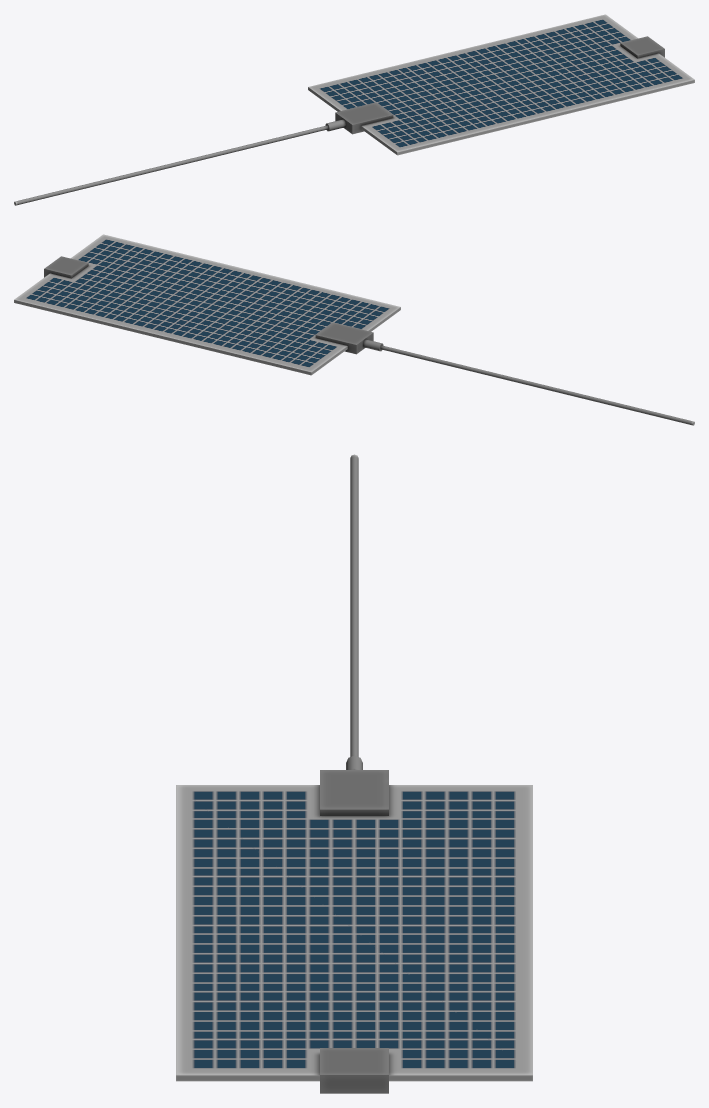
Rendered from Tantares_SolarBasic_A_4.obj.
3 renders of one model, top to bottom at view 1: azimuth 30°, elevation 25°; view 2: azimuth 150°, elevation 25°; view 3: azimuth 270°, elevation 25°, orthographic. The views are drawn at different scales.
Parts seen in each view (by area): view 1: Tantares_SolarBasic_A_4; view 2: Tantares_SolarBasic_A_4; view 3: Tantares_SolarBasic_A_4.
Part boxes in pixels (x1,y1,x2,y2): Tantares_SolarBasic_A_4: (14,14,694,205); Tantares_SolarBasic_A_4: (14,234,694,425); Tantares_SolarBasic_A_4: (176,454,532,1093).
Size of the model in its own units: 2.15 by 0.03 by 0.52.
Materials: 1 (1 with a texture image).
